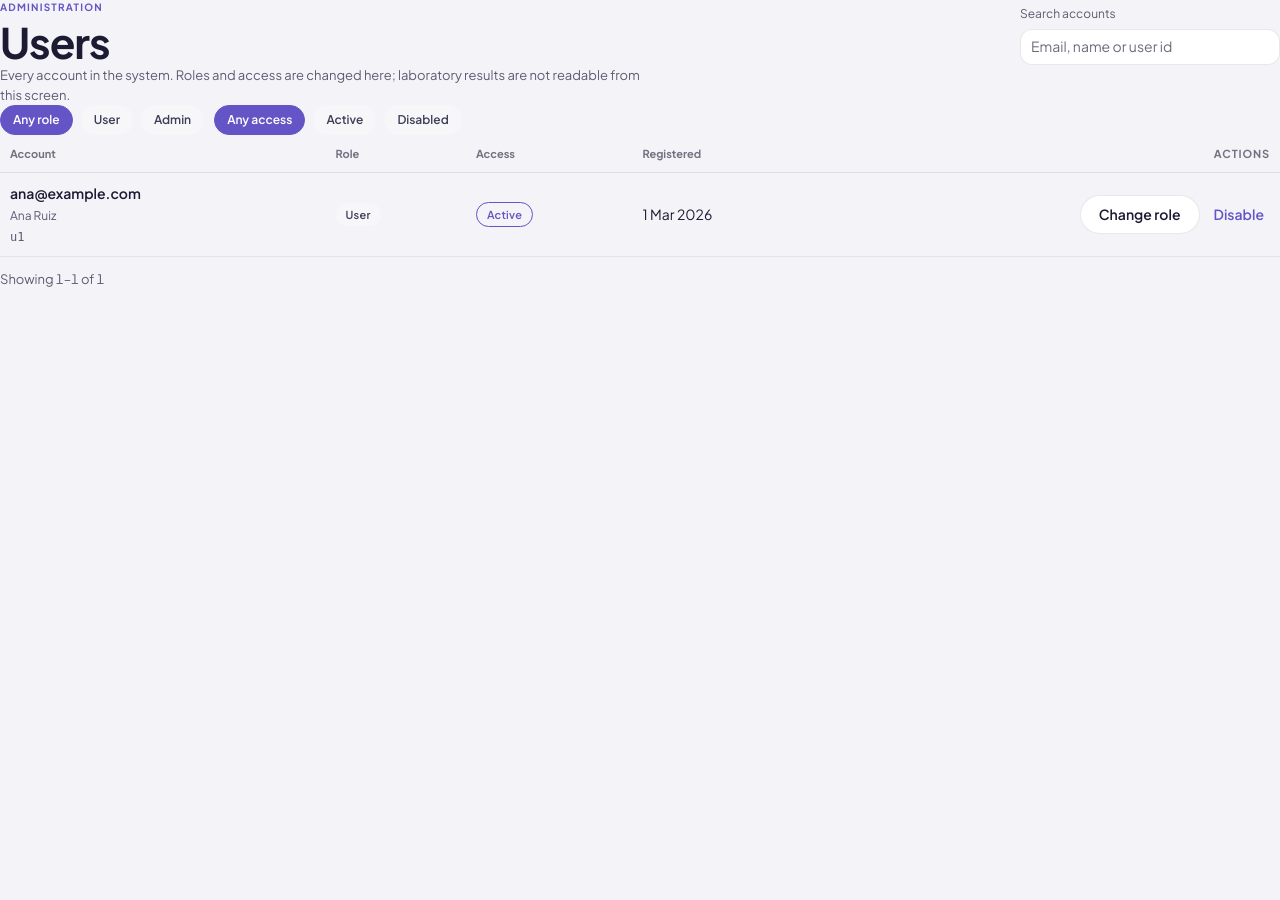
changing a role › grants admin only after the confirming click
The image size is (1280, 900).
Click the button with aria-label "Change the role of ana@example.com" at (1140, 215), box [1080, 196, 1200, 234]
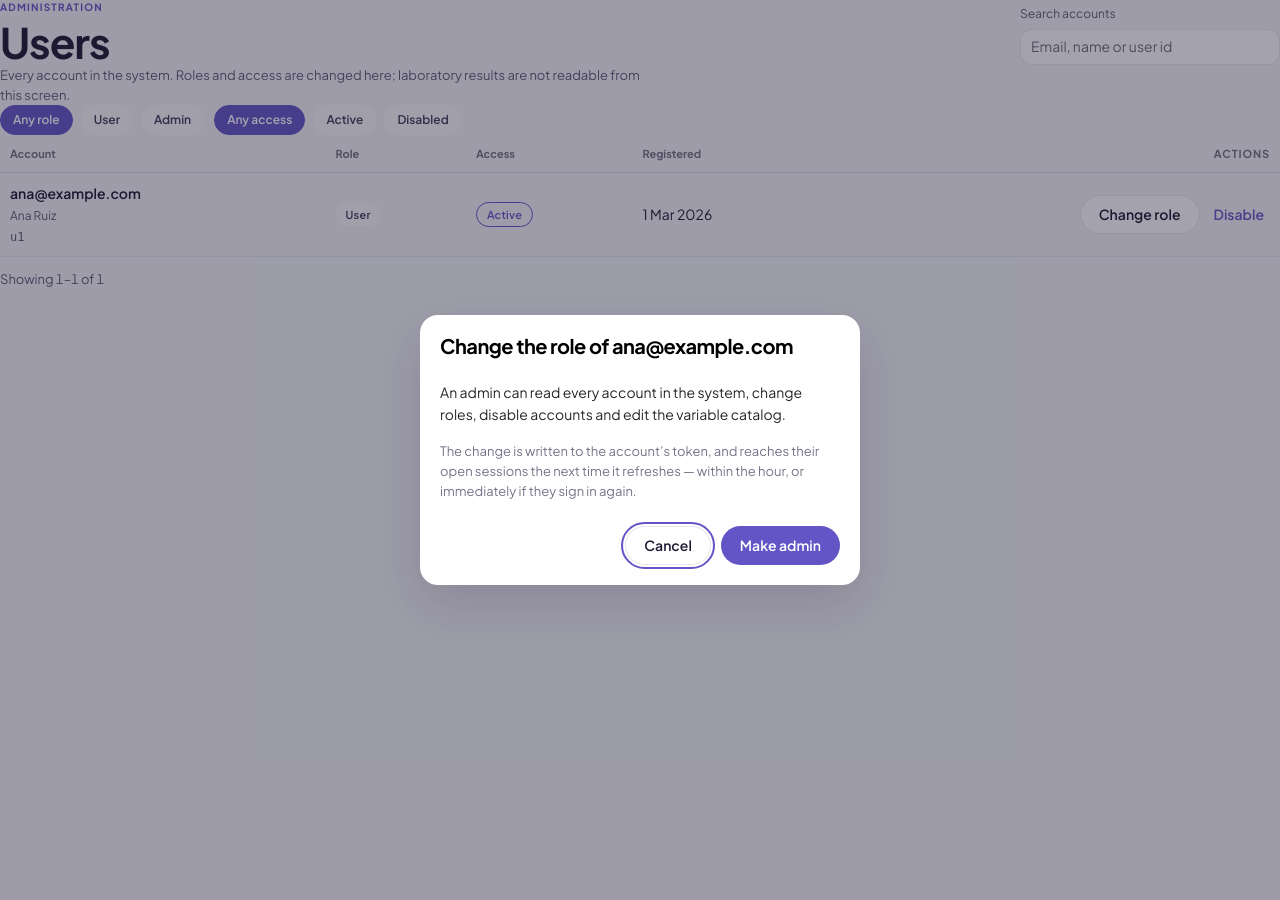
Click the button "Make admin" at (780, 546), box [721, 526, 840, 565]
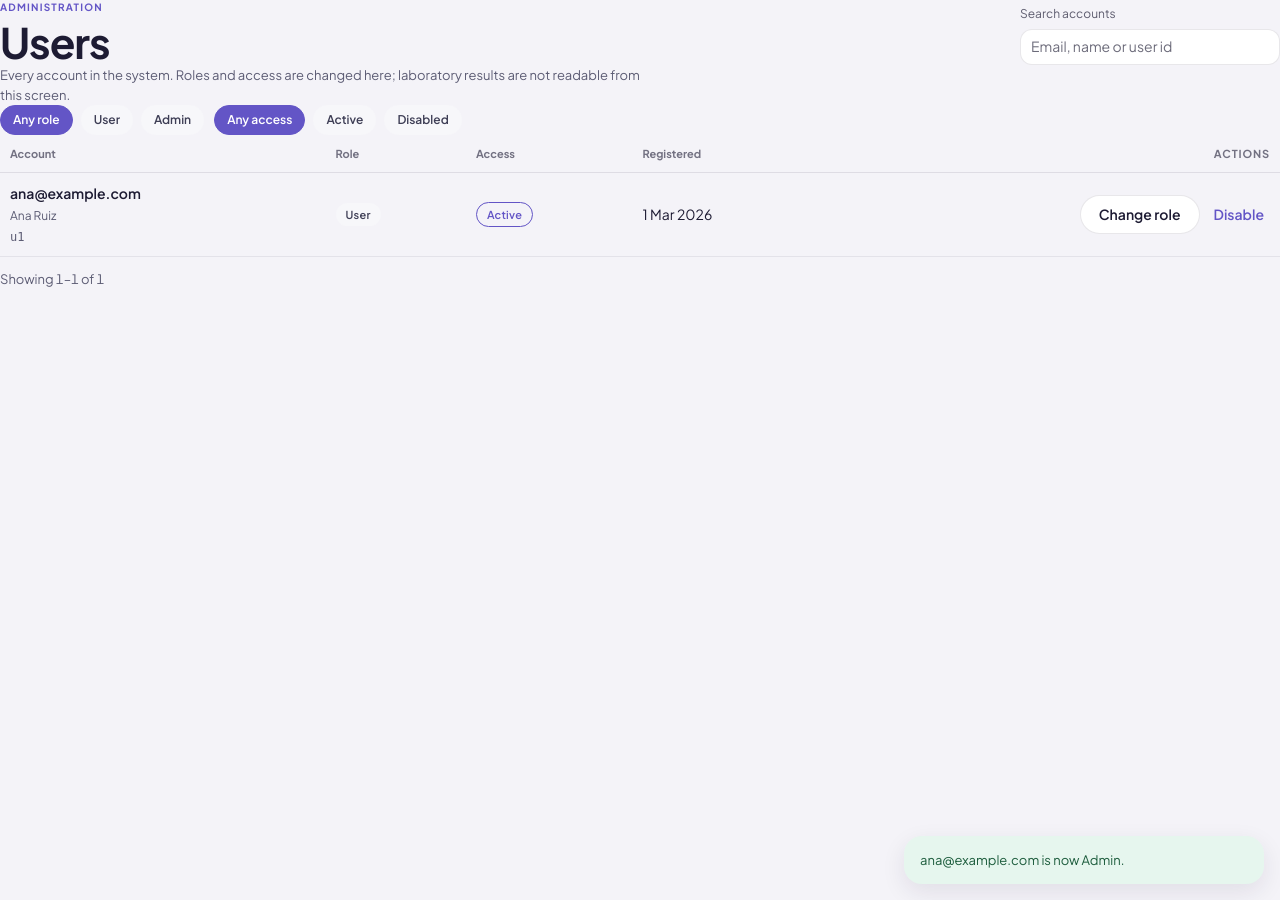
expect the text "ana@example.com is now Admin." is shown: met, box [920, 852, 1124, 868]
